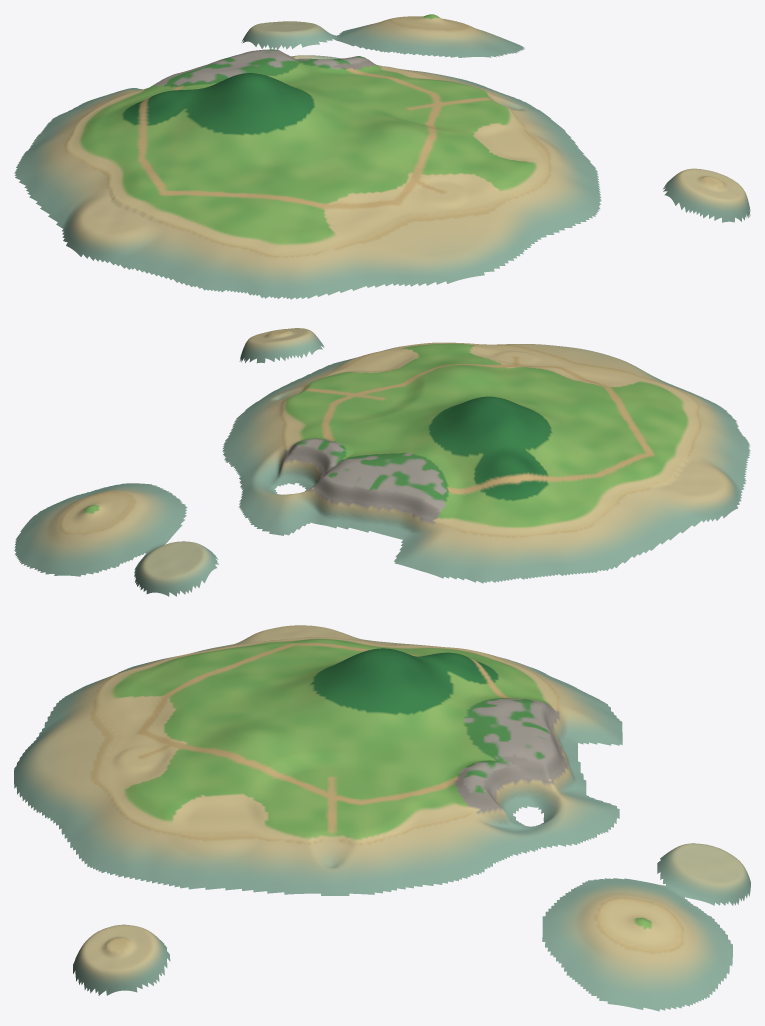
The model's file is island.glb.
3 renders of one model, top to bottom at view 1: azimuth 30°, elevation 25°; view 2: azimuth 150°, elevation 25°; view 3: azimuth 270°, elevation 25°, orthographic. The views are drawn at different scales.
Visible parts, largest first — view 1: island; view 2: island; view 3: island.
Boxes of the visible parts, box(x1,y1,x2,y2) form: island: box(14, 14, 750, 299); island: box(14, 328, 750, 596); island: box(14, 625, 750, 1011).
Size of the model in its own units: 287 by 68.38 by 282.
